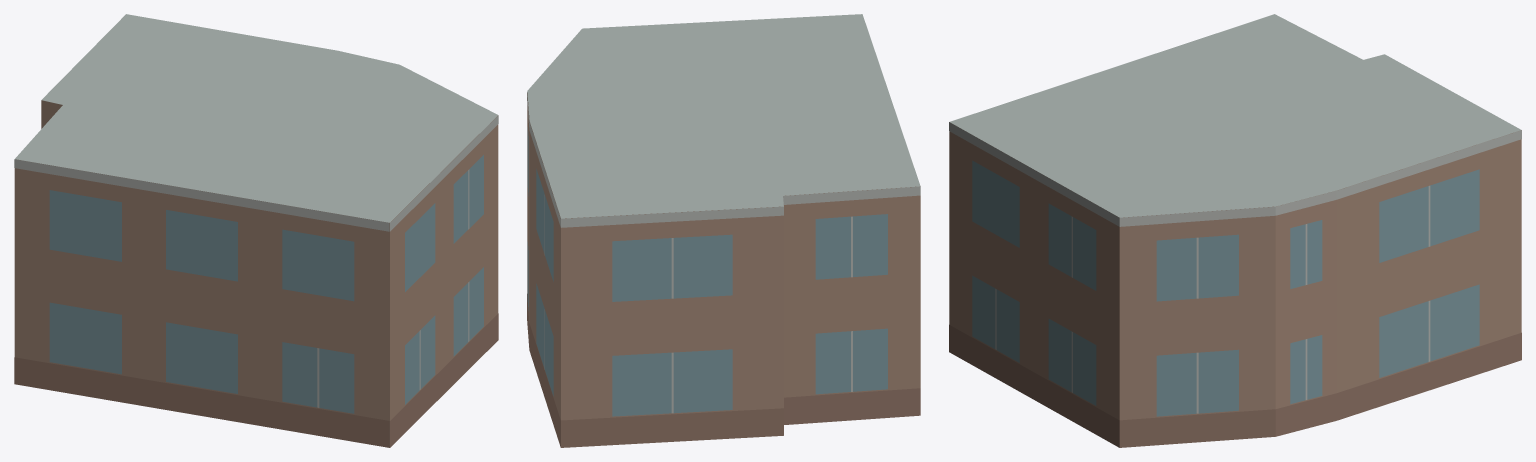
Rendered from survey-upis-33019326.glb.
The picture shows the model from 3 angles, left to right: view 1: azimuth 30°, elevation 25°; view 2: azimuth 150°, elevation 25°; view 3: azimuth 270°, elevation 25°; orthographic projection. The views are drawn at different scales.
Parts seen in each view (by area): view 1: survey-upis-33019326.tmp; view 2: survey-upis-33019326.tmp; view 3: survey-upis-33019326.tmp.
Part boxes in pixels (x1,y1,x2,y2): survey-upis-33019326.tmp: (14,14,498,447); survey-upis-33019326.tmp: (527,14,920,447); survey-upis-33019326.tmp: (949,14,1521,447).
Bounding box in the file's own units: 11.59 × 6.1 × 13.76.
